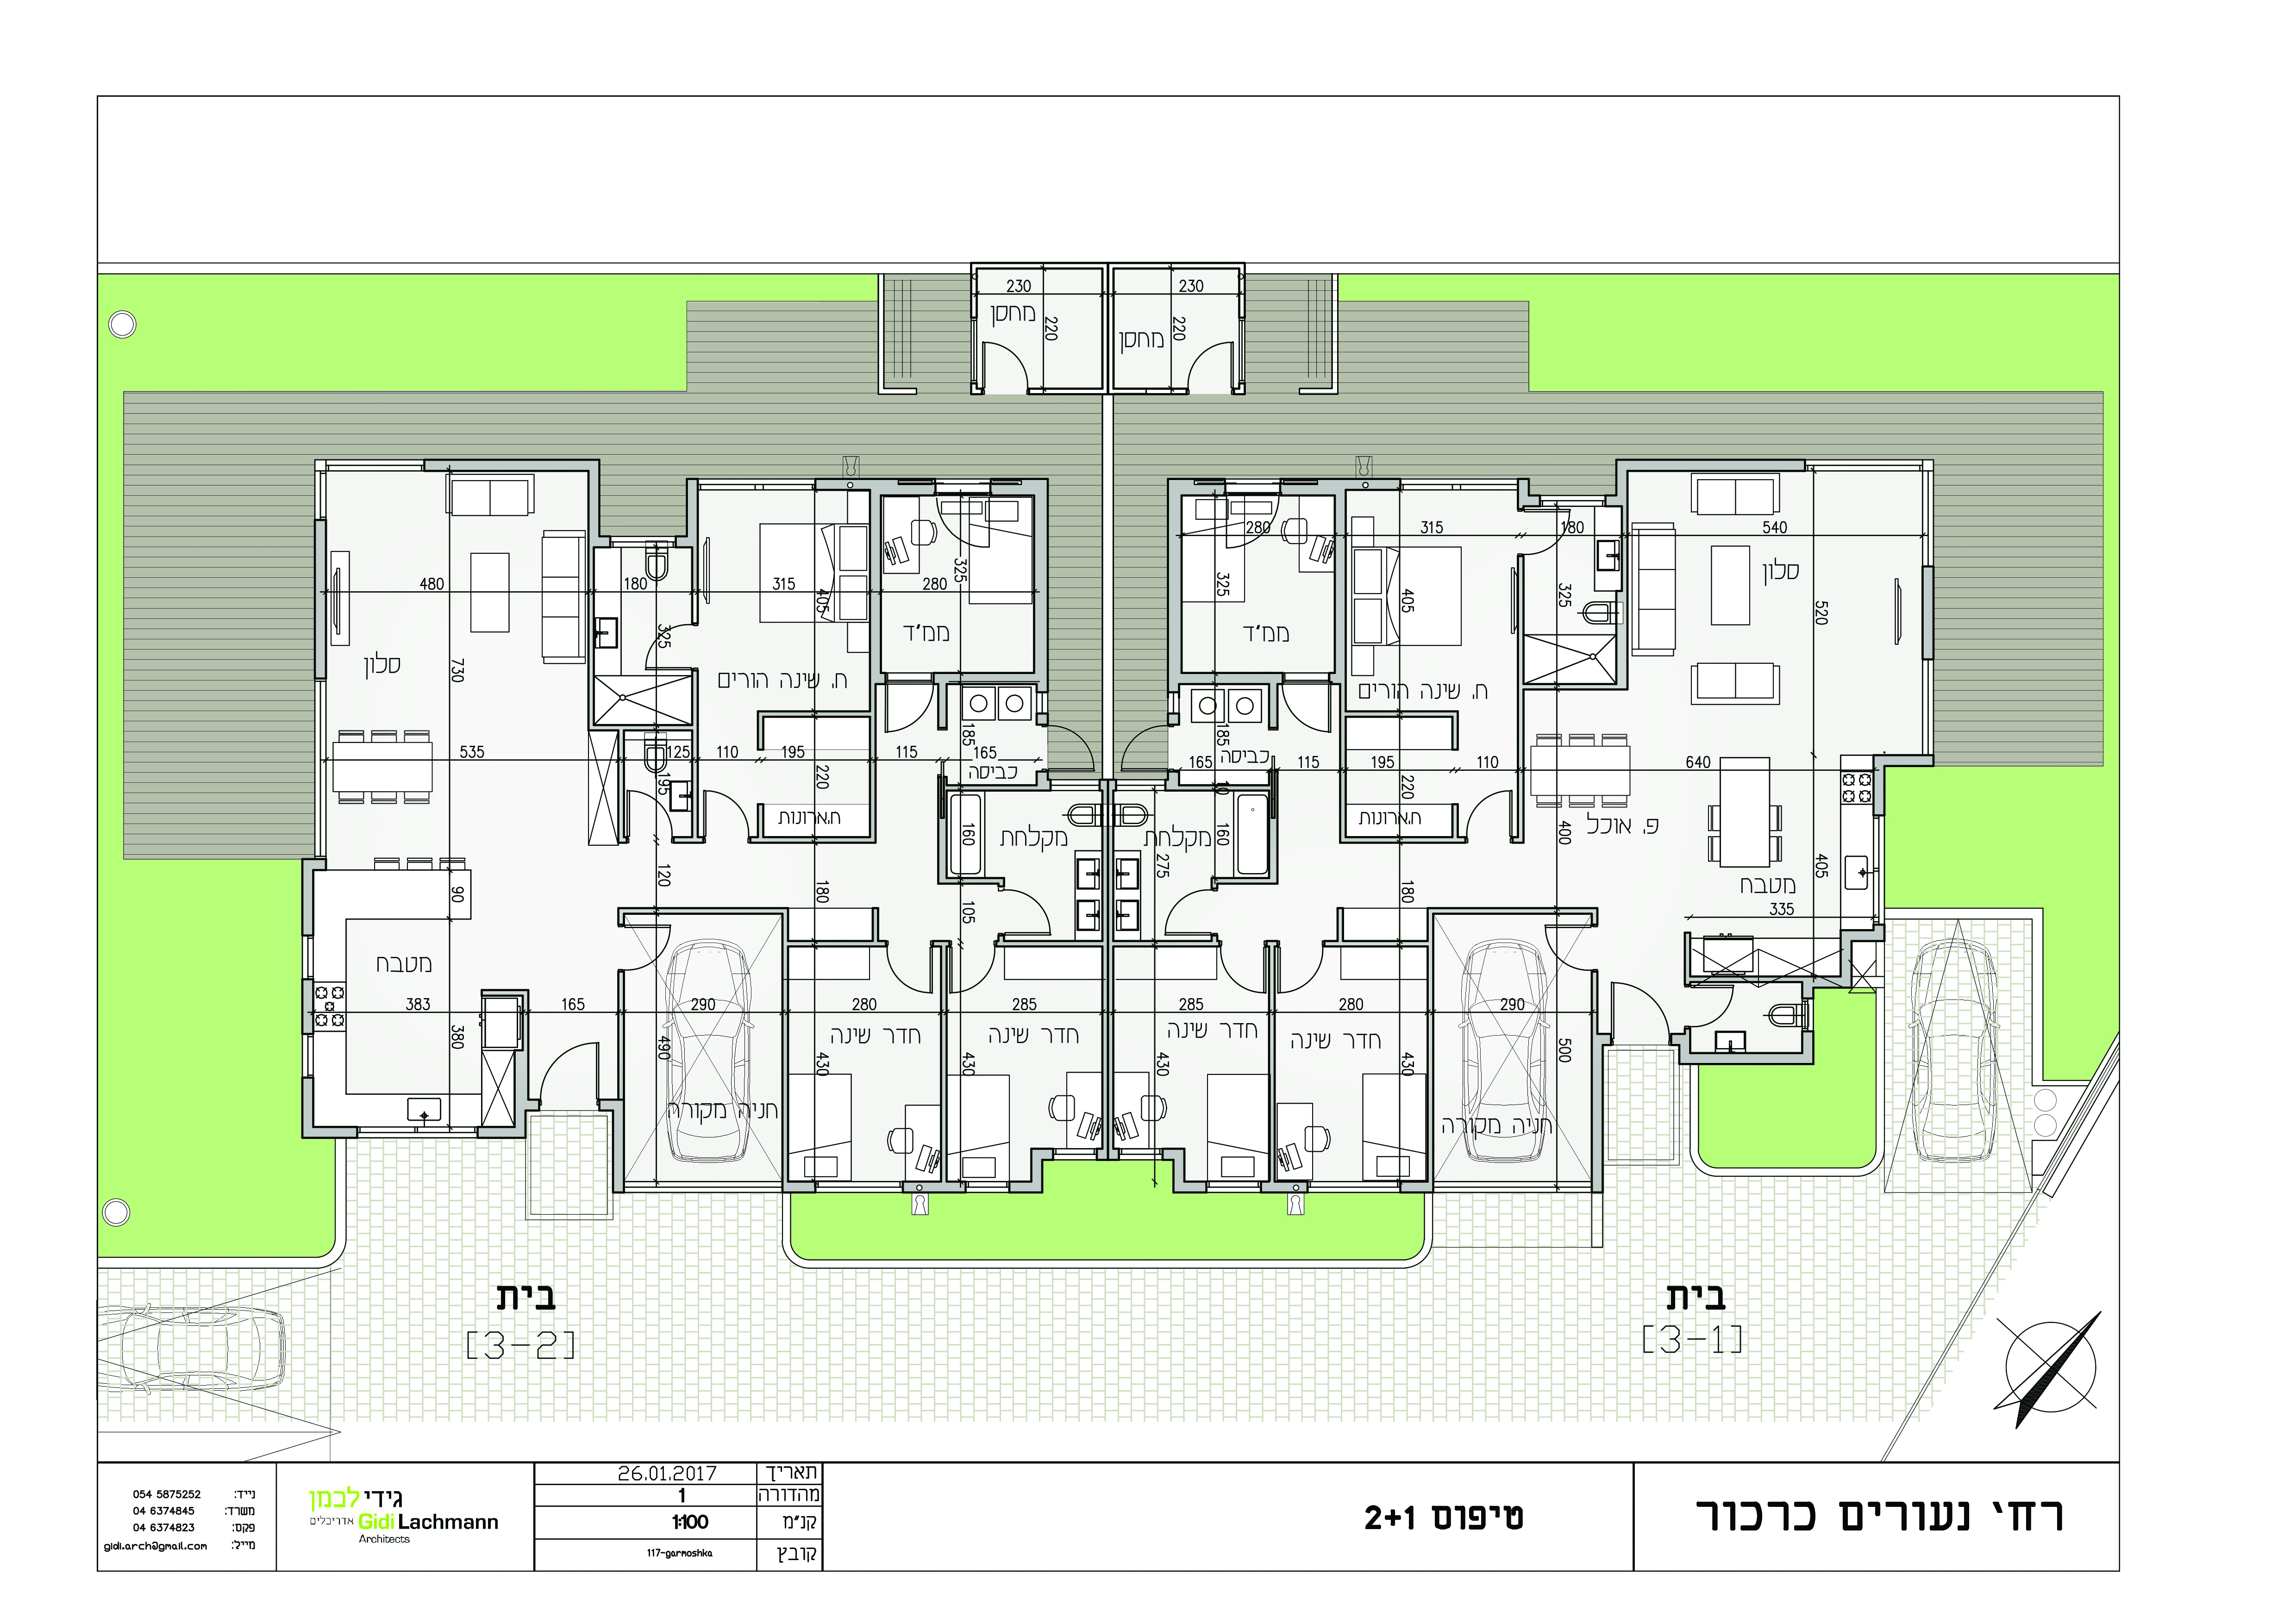door: (533, 1039, 607, 1095), (1605, 977, 1675, 1033), (1688, 977, 1749, 1037), (1456, 775, 1515, 835), (1276, 684, 1336, 743), (1528, 503, 1588, 562), (942, 947, 1000, 1005), (1004, 884, 1062, 942), (1153, 884, 1210, 940), (1217, 946, 1269, 1000), (1276, 946, 1329, 1000), (1538, 921, 1591, 975), (626, 919, 677, 975), (626, 780, 677, 837), (884, 946, 935, 1002), (881, 684, 932, 740), (700, 780, 751, 835)
wall: (1169, 480, 1183, 684), (1034, 478, 1046, 684), (870, 480, 879, 673), (1617, 460, 1806, 469)
window: (315, 682, 325, 858), (1401, 478, 1517, 490), (1308, 1179, 1399, 1193), (357, 1127, 476, 1137), (325, 459, 425, 471), (698, 480, 814, 490), (1922, 659, 1934, 754), (1922, 471, 1934, 566), (1874, 816, 1885, 923), (814, 1181, 904, 1193), (1208, 1181, 1262, 1195), (315, 471, 327, 520), (963, 1181, 1009, 1193), (1051, 1148, 1097, 1160), (1118, 1148, 1164, 1160), (302, 937, 313, 979), (302, 1035, 313, 1077)
